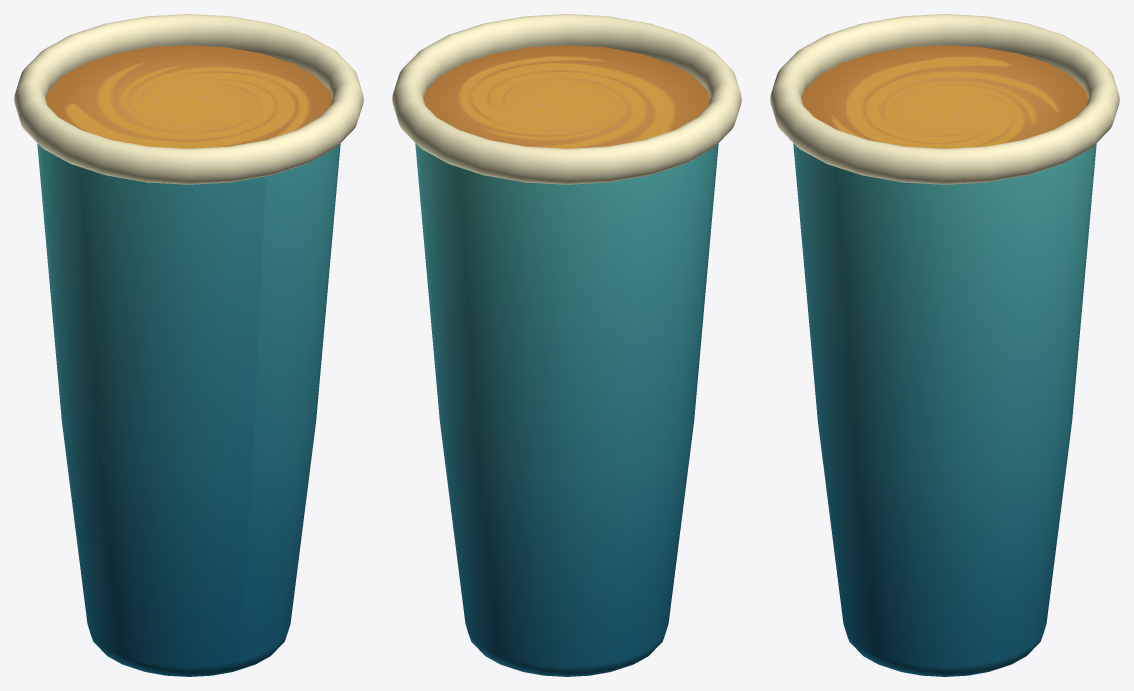
File: SM_BlueCoffeMug_01a.fbx
3 renders of one model, left to right at view 1: azimuth 30°, elevation 25°; view 2: azimuth 150°, elevation 25°; view 3: azimuth 270°, elevation 25°, orthographic.
Parts seen in each view (by area): view 1: SM_BlueCoffeMug_01a; view 2: SM_BlueCoffeMug_01a; view 3: SM_BlueCoffeMug_01a.
Boxes of the visible parts, x1,y1,x2,y2 form: SM_BlueCoffeMug_01a: (14,14,363,676); SM_BlueCoffeMug_01a: (392,14,741,676); SM_BlueCoffeMug_01a: (770,14,1119,676).
Bounding box in the file's own units: 37.25 × 65.7 × 37.25.
